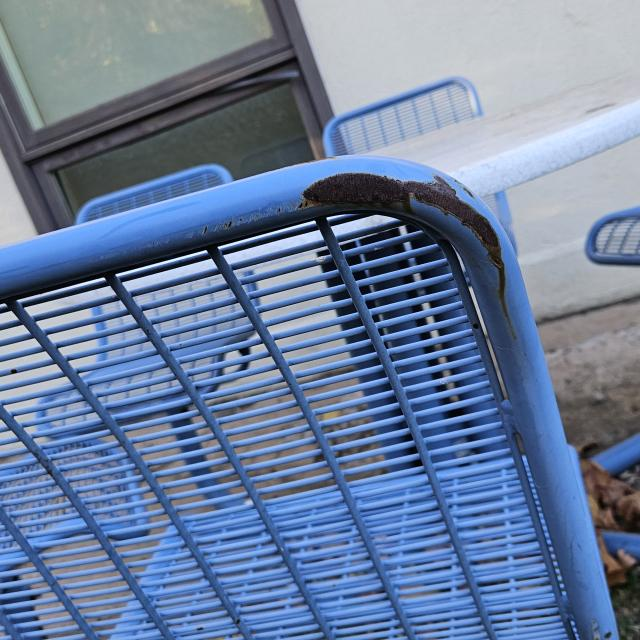Filiform Corrosion: (293, 170, 517, 341), (200, 214, 238, 240)
